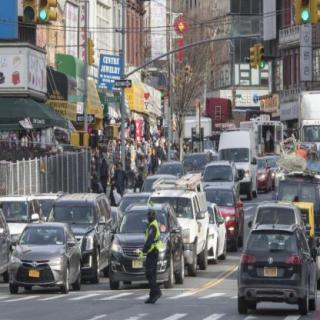Normal_vehicle: (238, 225, 315, 315), (9, 223, 80, 293)
